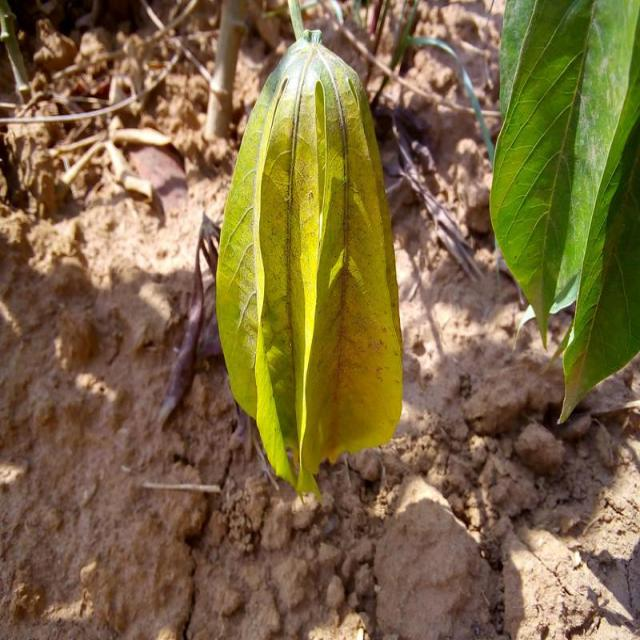cassava leaf: (214, 27, 404, 502), (488, 0, 638, 425)
